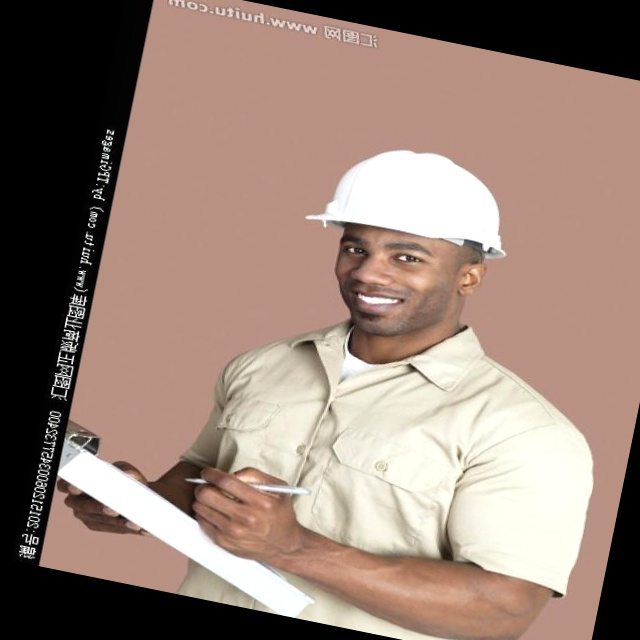Con_Casco: (291, 131, 524, 344)
